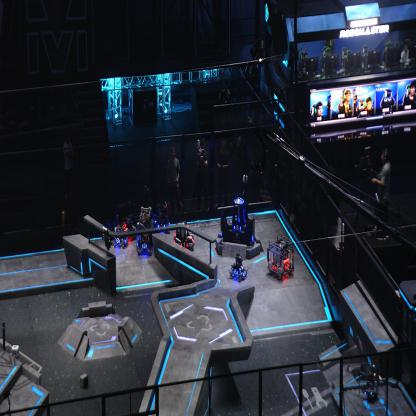car: (266, 232, 294, 280), (135, 205, 155, 256), (173, 219, 194, 251), (152, 200, 171, 235), (228, 251, 249, 282), (120, 212, 138, 240), (112, 222, 129, 247)
